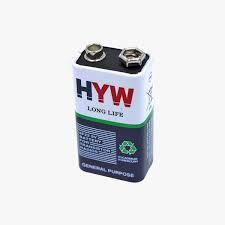9V: (72, 28, 159, 186)
